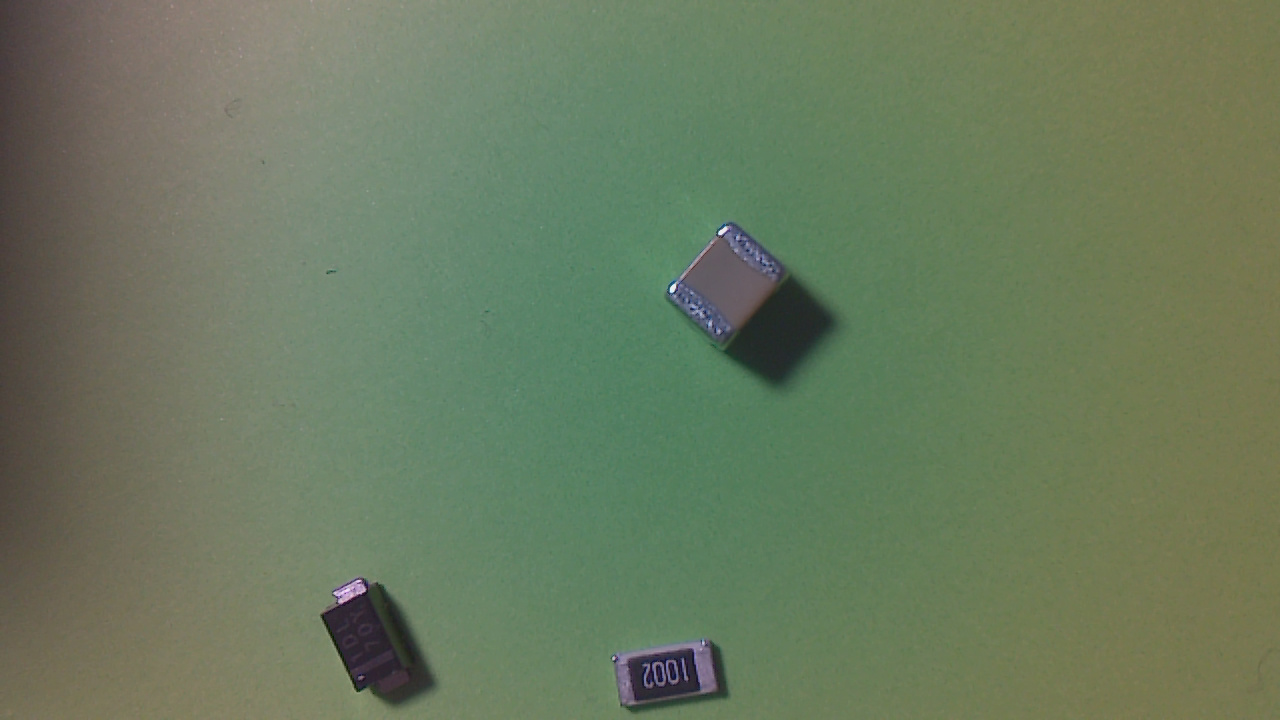Condensator: (673, 224, 796, 356)
Diode: (323, 582, 426, 700)
Resistor: (616, 638, 732, 711)
